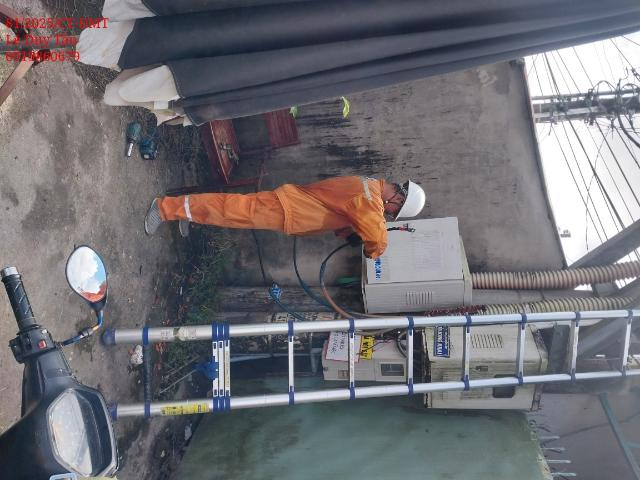helmet: (383, 177, 433, 226)
shoes: (142, 193, 165, 237), (174, 212, 196, 240)
